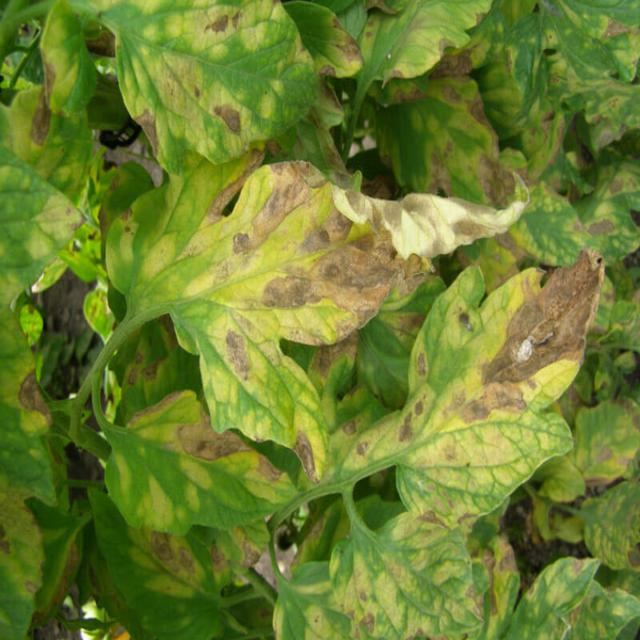Leaf_Mold: (112, 158, 496, 479), (317, 248, 607, 525), (90, 1, 320, 168), (119, 391, 296, 533), (327, 515, 485, 640), (1, 12, 92, 201), (376, 80, 498, 202), (539, 9, 640, 150), (378, 2, 492, 81), (1, 273, 52, 442), (507, 179, 596, 270), (520, 552, 599, 640), (123, 525, 205, 601), (572, 395, 639, 485), (504, 99, 570, 181), (590, 157, 640, 263), (1, 485, 45, 597), (17, 192, 87, 262), (274, 571, 345, 640), (479, 534, 520, 640), (314, 12, 366, 79), (209, 527, 258, 583)
